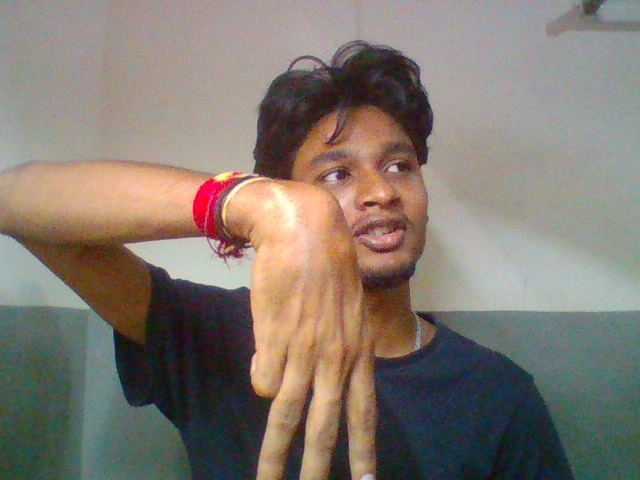M: (217, 172, 412, 480)
